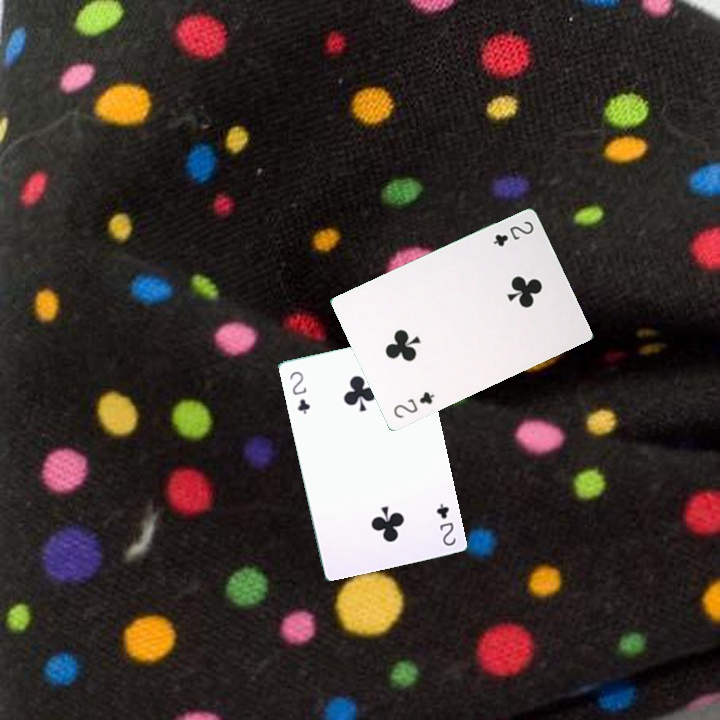2c: (389, 387, 437, 421), (489, 217, 536, 249), (286, 367, 313, 416), (432, 499, 459, 548)
